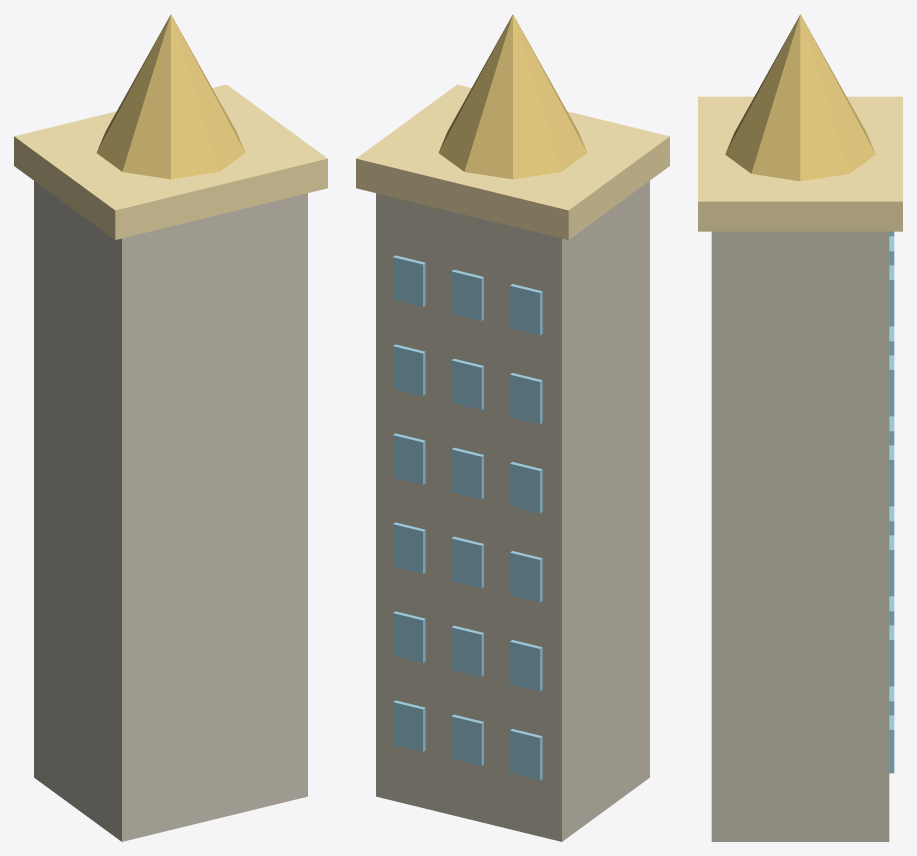
The model's file is stage_5_hotel.glb.
3 views of the same model, side by side, from view 1: azimuth 30°, elevation 25°; view 2: azimuth 150°, elevation 25°; view 3: azimuth 270°, elevation 25° (orthographic).
Visible parts, largest first — view 1: GRAND_HOTEL_BODY, GRAND_HOTEL_ROOF, GRAND_HOTEL_CROWN; view 2: GRAND_HOTEL_BODY, GRAND_HOTEL_ROOF, GRAND_HOTEL_CROWN, HOTEL_W_0_33, HOTEL_W_1_33, HOTEL_W_2_33, HOTEL_W_5_33, HOTEL_W_0_-33, HOTEL_W_0_0, HOTEL_W_1_0, HOTEL_W_2_-33, HOTEL_W_2_0 (+9 smaller); view 3: GRAND_HOTEL_BODY, GRAND_HOTEL_ROOF, GRAND_HOTEL_CROWN.
Boxes of the visible parts, x1,y1,x2,y2 form: GRAND_HOTEL_BODY: (34,181,307,841); GRAND_HOTEL_ROOF: (14,84,327,239); GRAND_HOTEL_CROWN: (96,14,245,179); GRAND_HOTEL_BODY: (376,181,649,841); GRAND_HOTEL_ROOF: (356,84,669,239); GRAND_HOTEL_CROWN: (438,14,587,179); HOTEL_W_0_33: (393,700,425,751); HOTEL_W_1_33: (393,611,425,662); HOTEL_W_2_33: (393,522,425,573); HOTEL_W_5_33: (393,255,425,306); HOTEL_W_0_-33: (510,729,542,780); HOTEL_W_0_0: (451,714,483,766); HOTEL_W_1_0: (451,625,483,677); HOTEL_W_2_-33: (510,551,542,602); HOTEL_W_2_0: (451,536,483,588); GRAND_HOTEL_BODY: (711,231,889,841); GRAND_HOTEL_ROOF: (698,96,902,231); GRAND_HOTEL_CROWN: (725,14,875,181).
Bounding box in the file's own units: 1.2 × 4.17 × 0.99.
